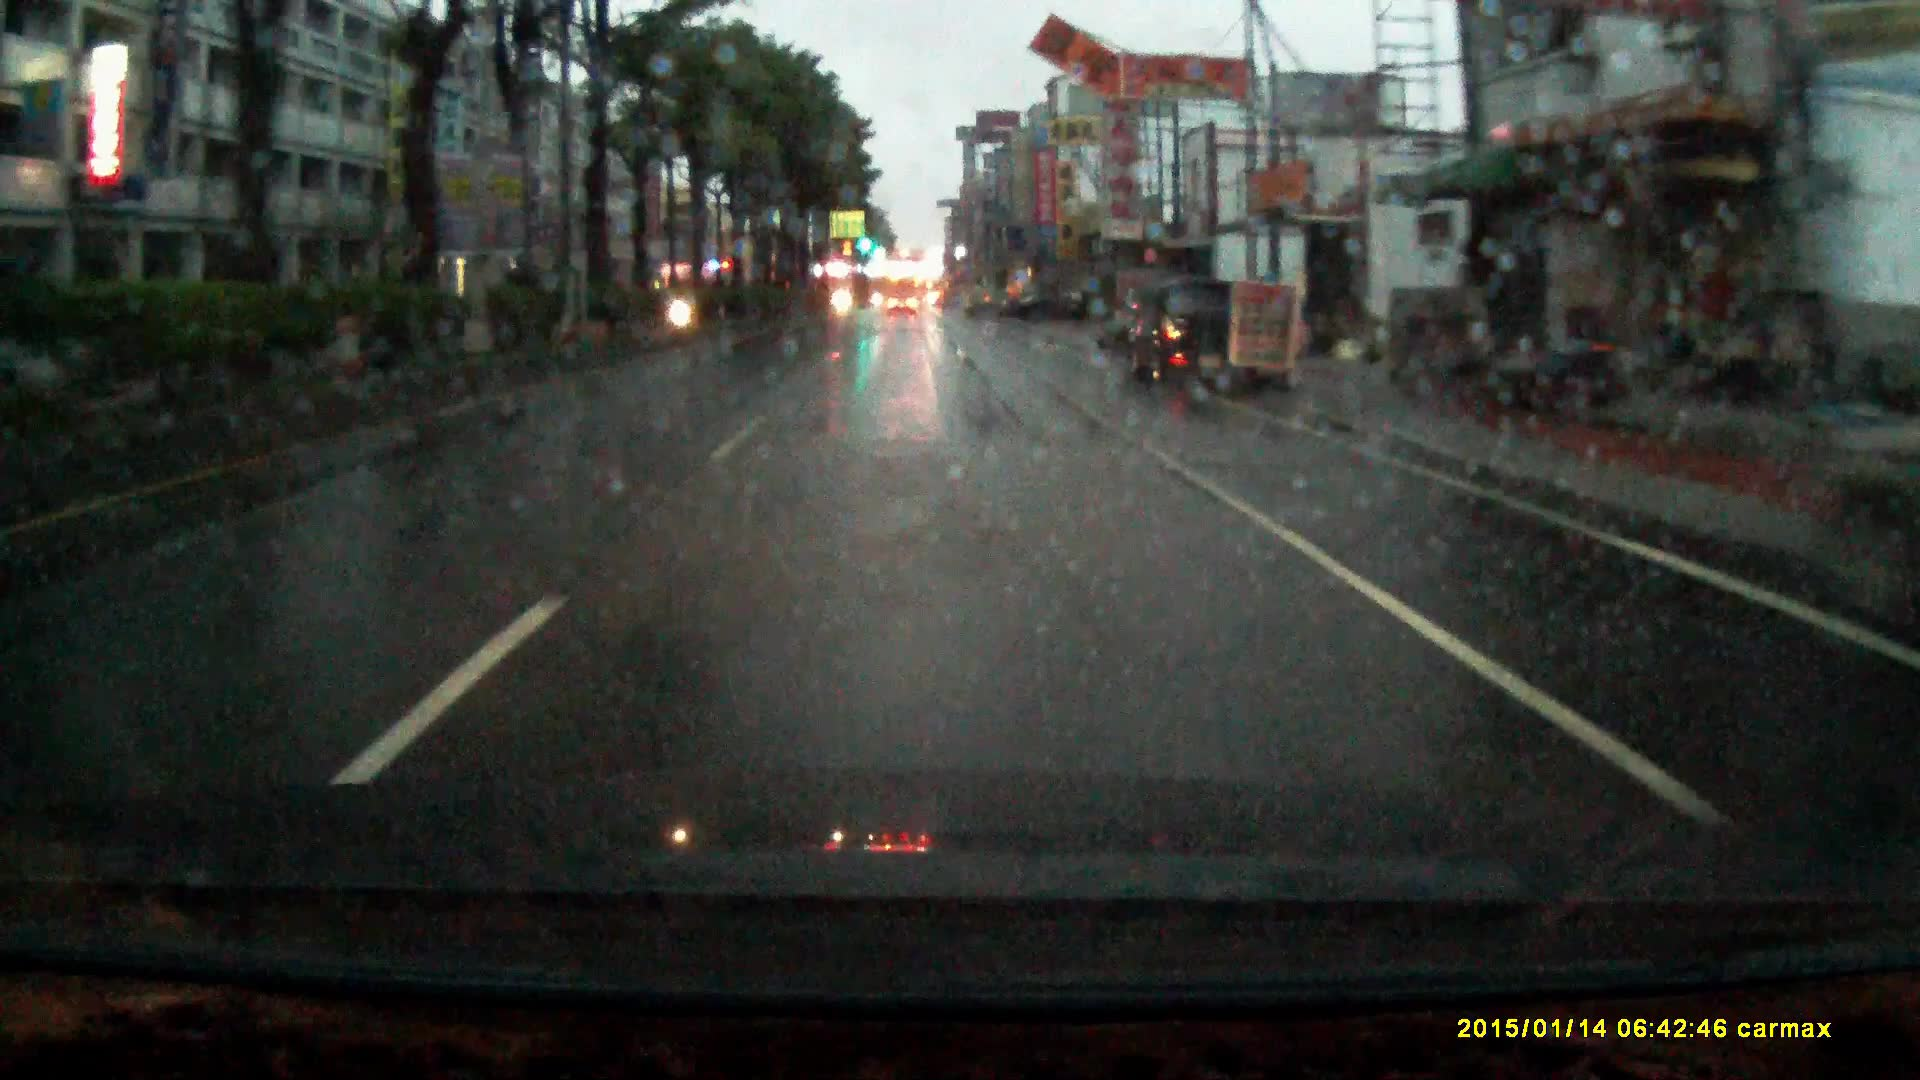vehicle: (1811, 413, 1920, 636), (1113, 274, 1273, 392), (887, 291, 919, 316)
